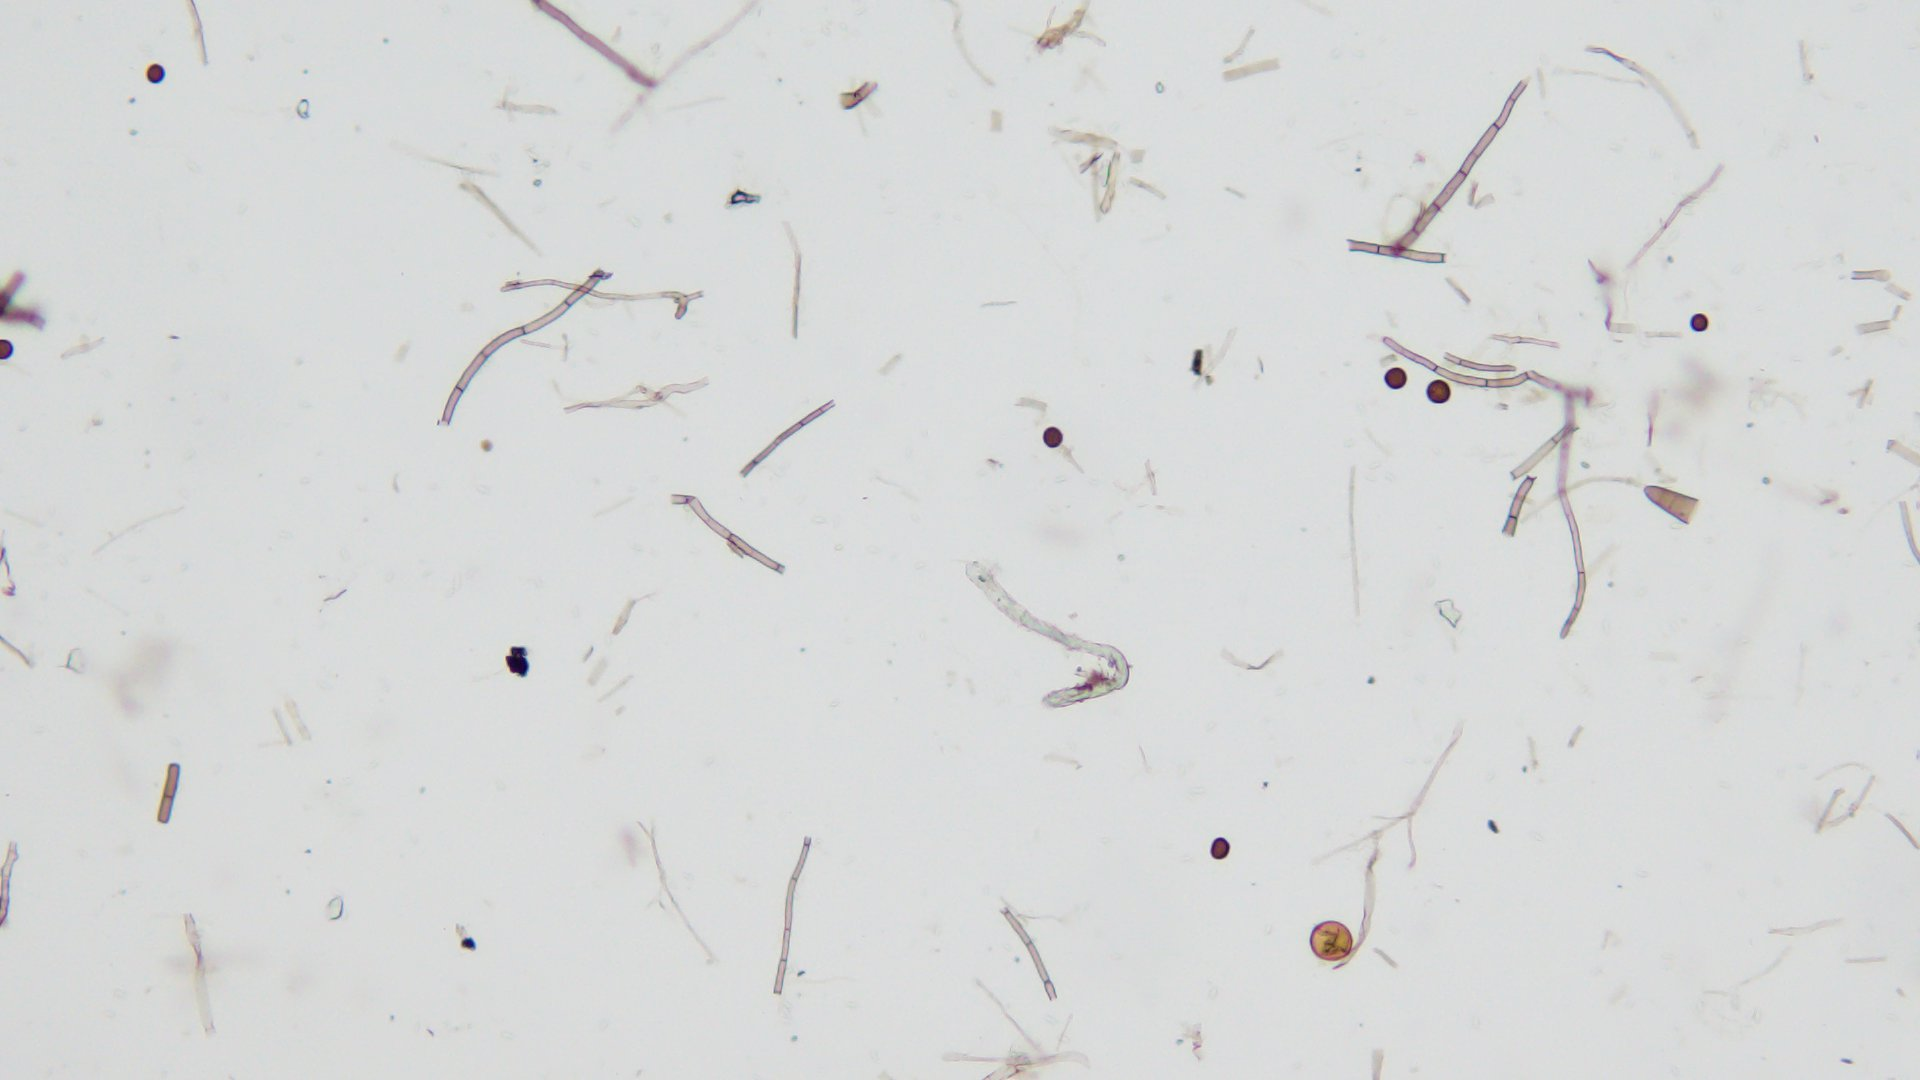shs_spore: (1425, 377, 1451, 404), (1042, 425, 1063, 450), (1383, 367, 1407, 388), (1691, 313, 1712, 334), (1211, 836, 1230, 858), (146, 63, 164, 86)
xb_spore: (1309, 919, 1354, 959)
